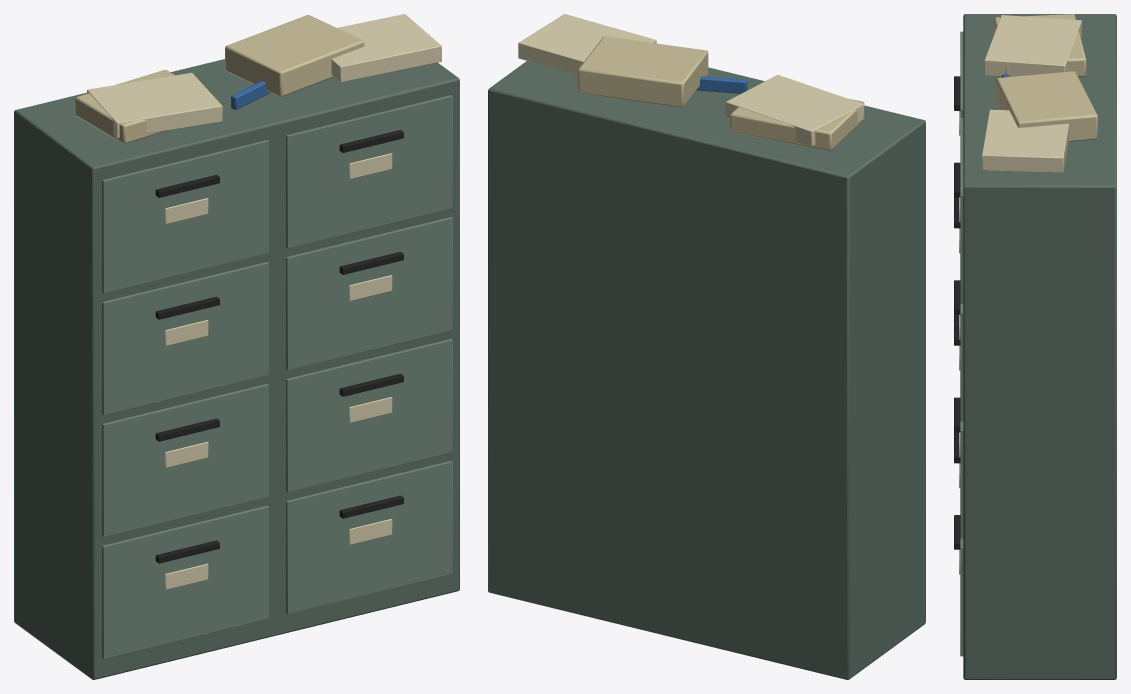
File: TuHoSo_Sat.glb
3 renders of one model, left to right at view 1: azimuth 30°, elevation 25°; view 2: azimuth 150°, elevation 25°; view 3: azimuth 270°, elevation 25°, orthographic. The views are drawn at different scales.
Parts seen in each view (by area): view 1: TuHoSo_Sat; view 2: TuHoSo_Sat; view 3: TuHoSo_Sat.
Part boxes in pixels (left/top/right/bottom): TuHoSo_Sat: left=14, top=14, right=459, bottom=679; TuHoSo_Sat: left=488, top=14, right=925, bottom=679; TuHoSo_Sat: left=954, top=14, right=1116, bottom=679.
Size of the model in its own units: 1.2 by 1.7 by 0.477.
